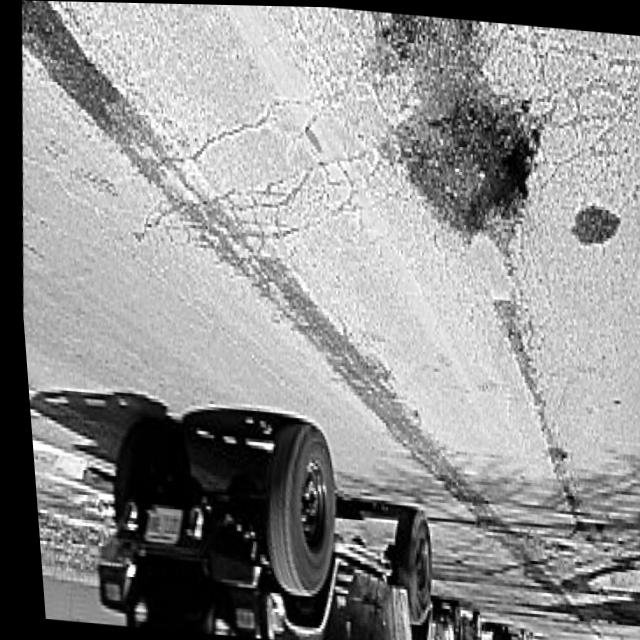pathole: (377, 12, 535, 236), (568, 203, 617, 242)
